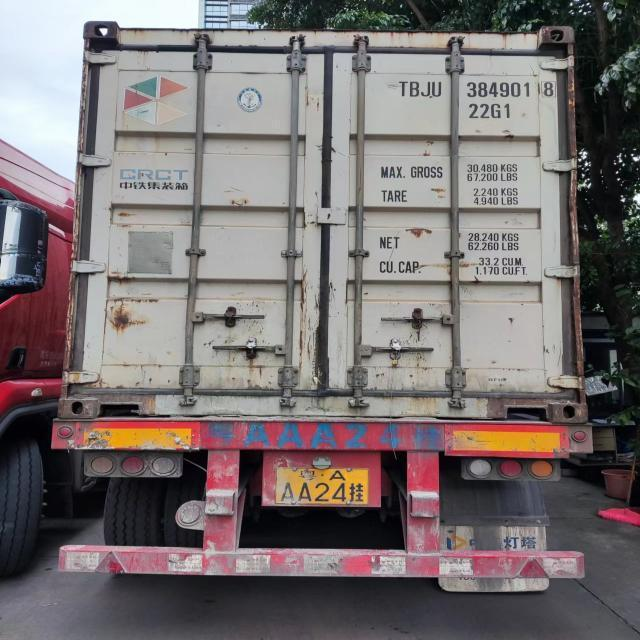ISO: (468, 101, 512, 120)
container_number: (399, 78, 557, 100)
